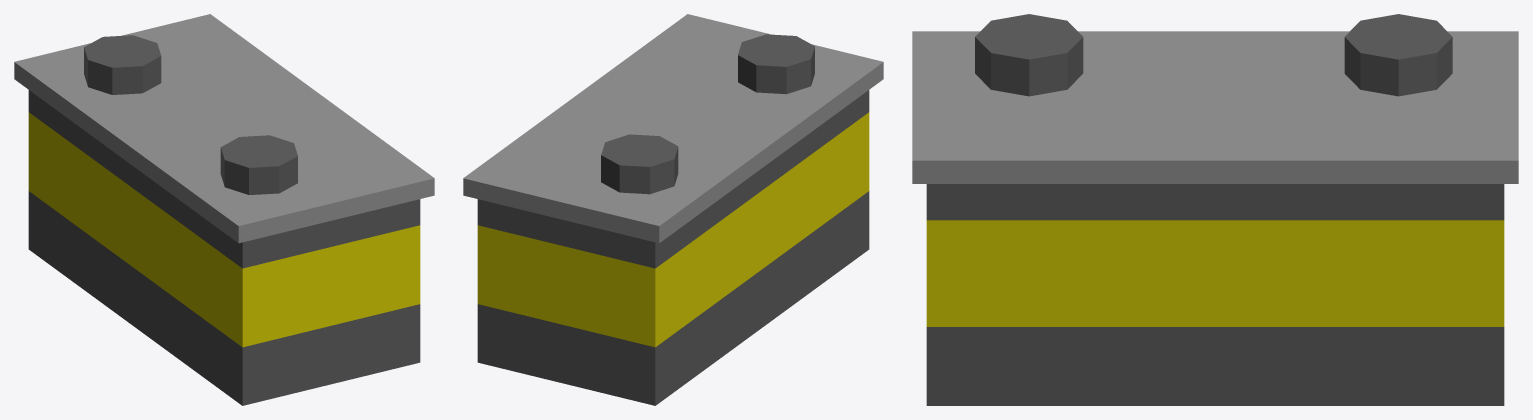
File: BatteryLarge.fbx
3 renders of one model, left to right at view 1: azimuth 30°, elevation 25°; view 2: azimuth 150°, elevation 25°; view 3: azimuth 270°, elevation 25°, orthographic. The views are drawn at different scales.
Parts seen in each view (by area): view 1: BatteryHullLarge; view 2: BatteryHullLarge; view 3: BatteryHullLarge.
Boxes of the visible parts, x1,y1,x2,y2 form: BatteryHullLarge: [14, 14, 434, 405]; BatteryHullLarge: [463, 14, 883, 405]; BatteryHullLarge: [912, 14, 1518, 405].
Size of the model in its own units: 51 by 52.97 by 101.
